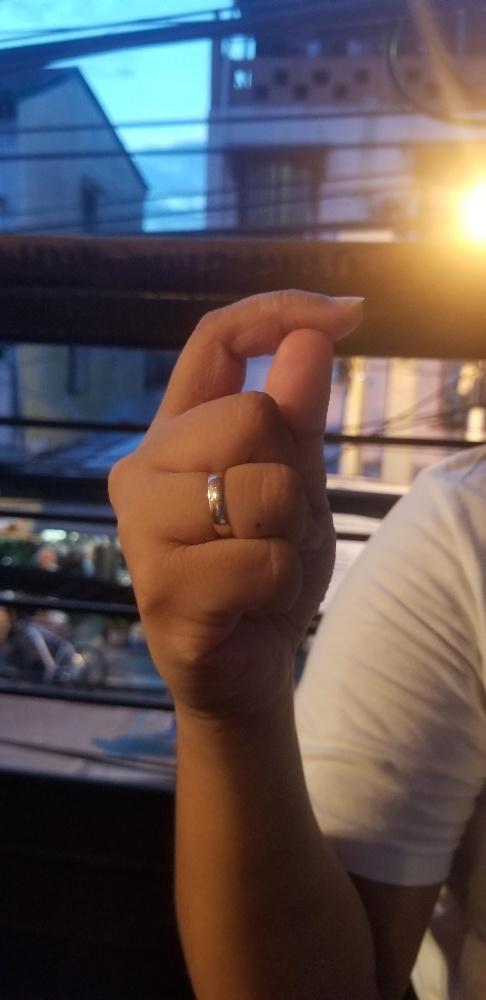t: (104, 282, 368, 710)
